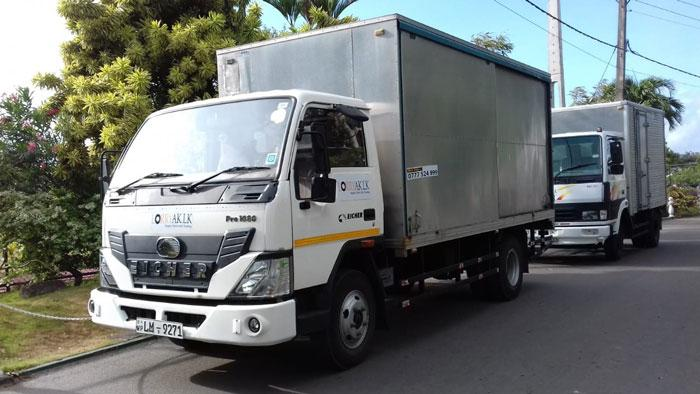truck: (86, 13, 555, 368), (550, 99, 668, 257)
